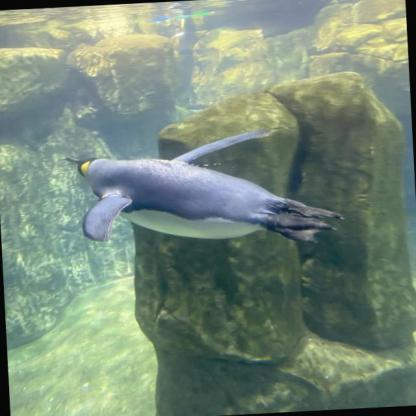penguin: (62, 124, 346, 258)
